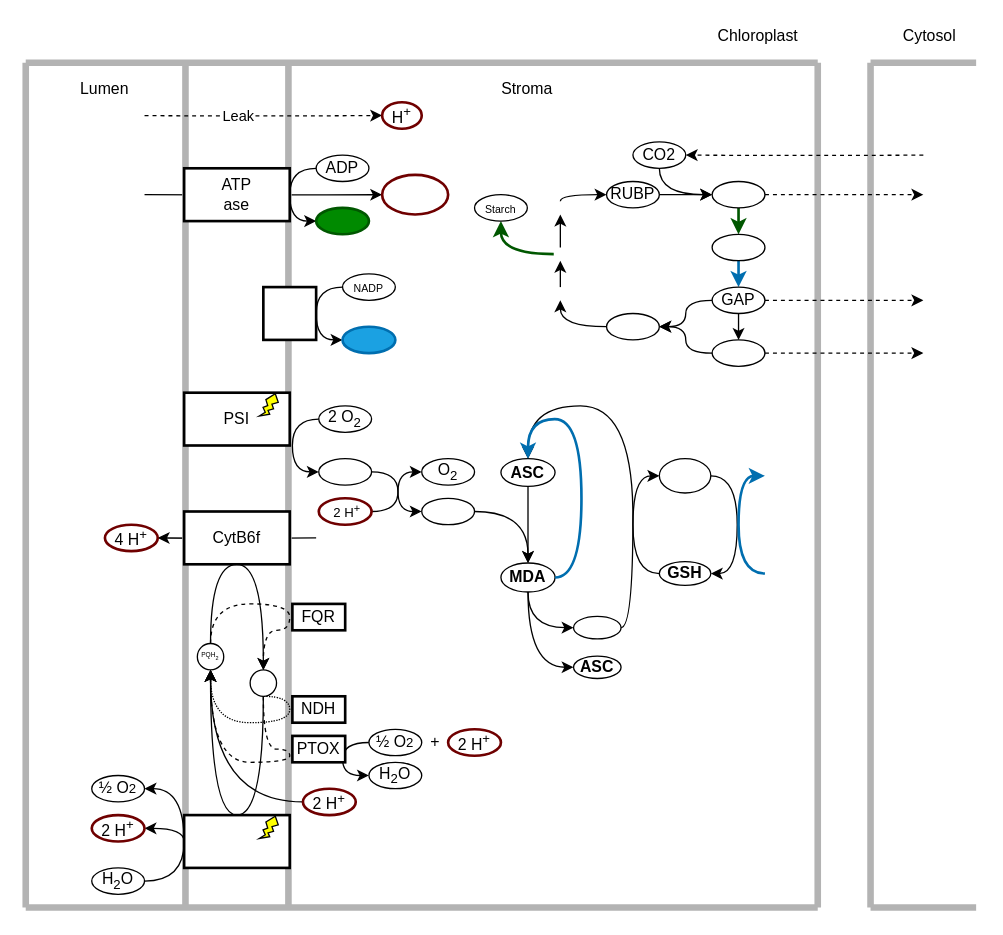
This 1003x935 diagram has some shape labels left out. Here are the shapes that lost their labels. From the top down, the centre of each, then its label:
At pixel 414 194: "14/3 H +".
At pixel 738 194: "PGA".
At pixel 342 220: "ATP".
At pixel 738 247: "BPGA".
At pixel 289 313: "FNR".
At pixel 632 326: "FBP".
At pixel 368 339: "NADPH".
At pixel 738 352: "DHAP".
At pixel 344 471: "2 O 2 *".
At pixel 684 475: "GSSG".
At pixel 447 511: "H 2 O 2".
At pixel 596 627: "DHA".
At pixel 263 682: "PQ".
At pixel 236 841: "PSII".
